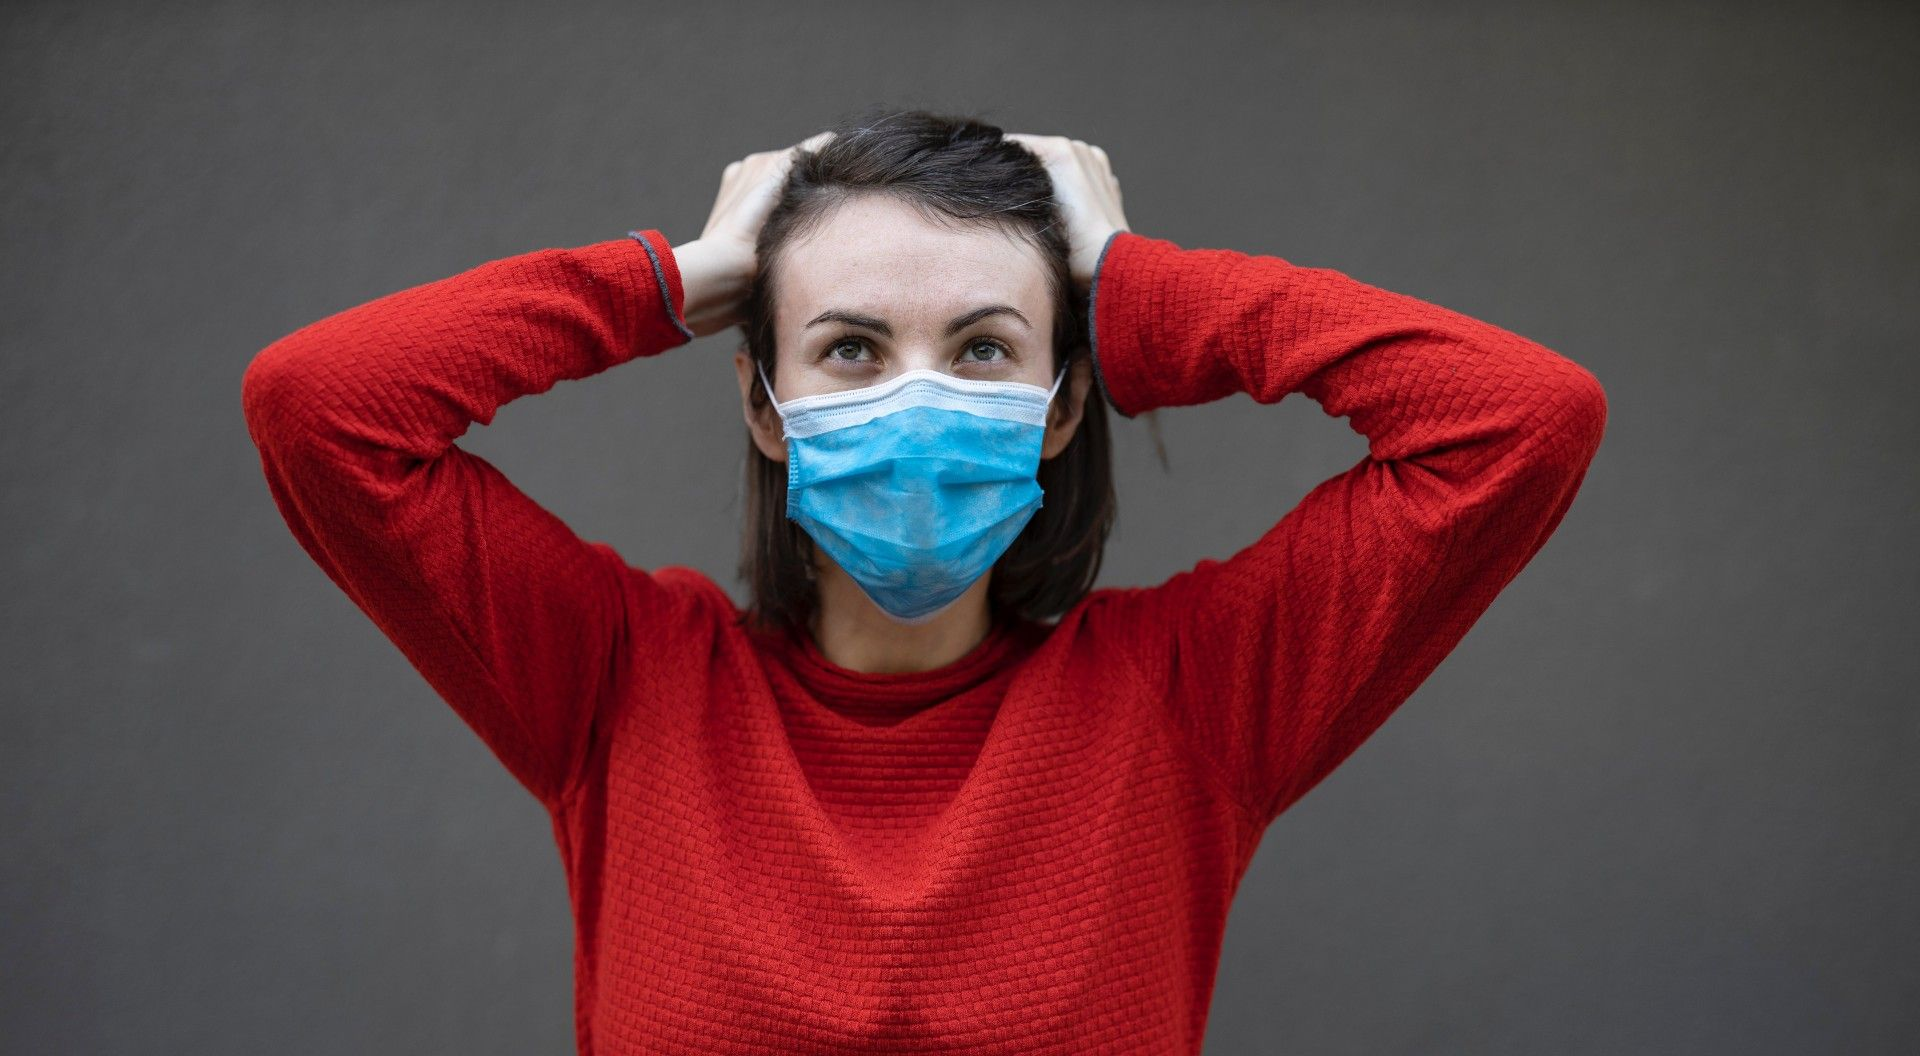barbijo: (738, 349, 1080, 622)
